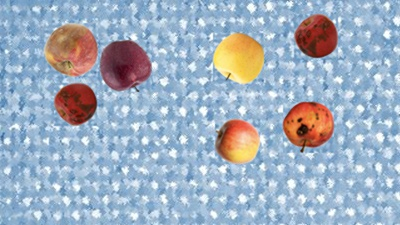Apple: (44, 23, 98, 77), (100, 40, 152, 92), (283, 102, 334, 153), (213, 33, 264, 84), (215, 119, 260, 164), (294, 14, 338, 58), (54, 83, 97, 126)
